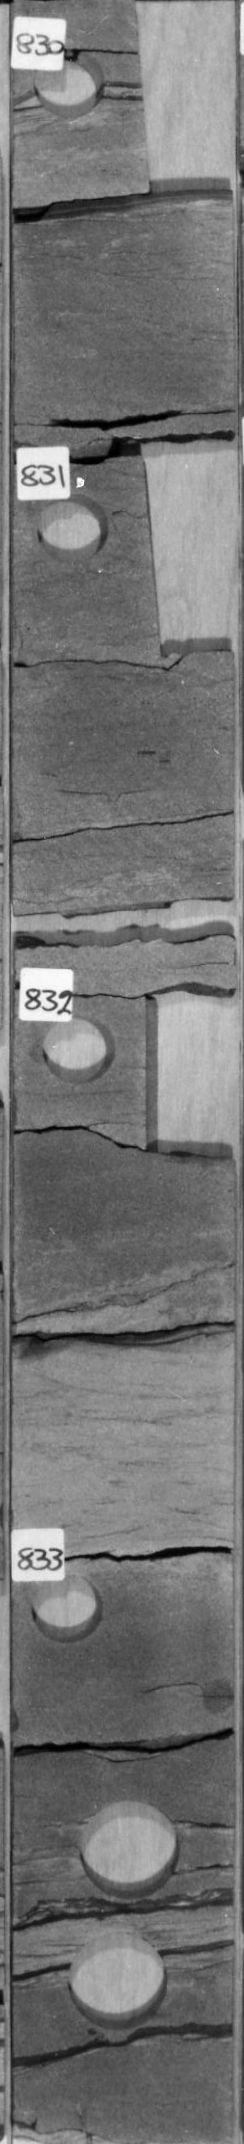hplug: (36, 1009, 121, 1091), (25, 1564, 111, 1644), (27, 46, 114, 124), (29, 494, 121, 566)
scal: (75, 1793, 185, 1902), (64, 1929, 171, 2033)
vplug: (132, 427, 234, 660), (127, 1, 229, 204), (138, 978, 234, 1166)
